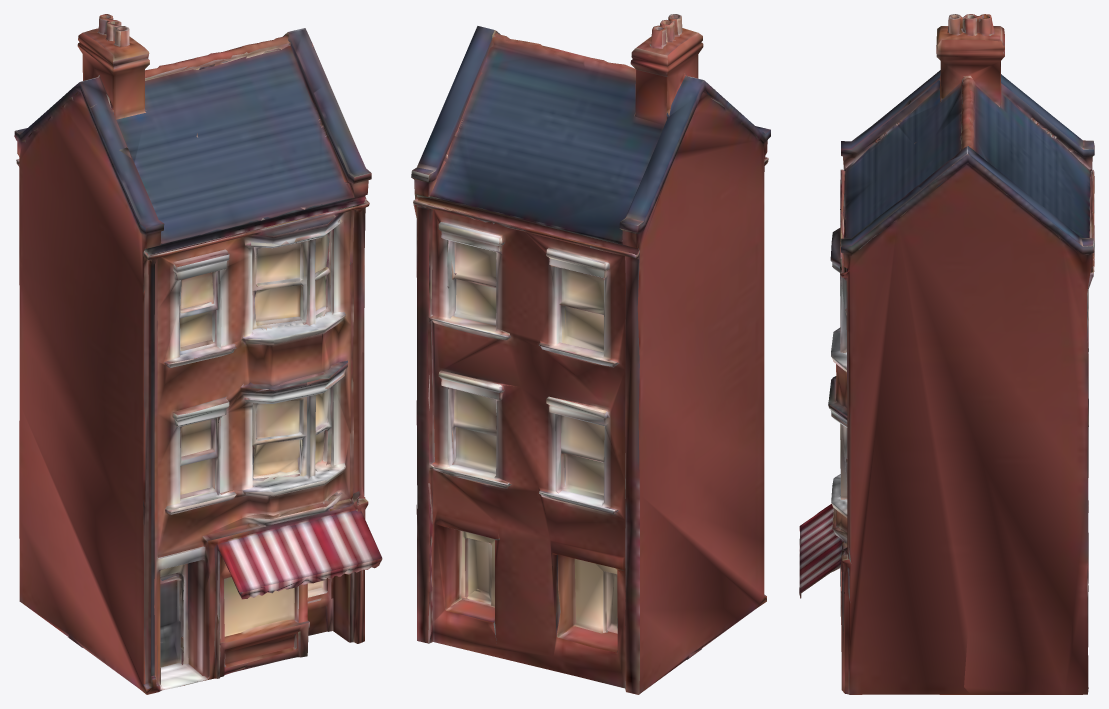
Rendered from townhouse.glb.
3 views of the same model, side by side, from view 1: azimuth 30°, elevation 25°; view 2: azimuth 150°, elevation 25°; view 3: azimuth 270°, elevation 25° (orthographic). The views are drawn at different scales.
Visible parts, largest first — view 1: Mesh_0; view 2: Mesh_0; view 3: Mesh_0.
Part boxes in pixels (bbox=[...]): Mesh_0: bbox=[14, 14, 382, 694]; Mesh_0: bbox=[411, 14, 770, 694]; Mesh_0: bbox=[799, 14, 1094, 694].
Size of the model in its own units: 0.7347 by 1.91 by 0.8662.
Materials: 1 (1 with a texture image).
